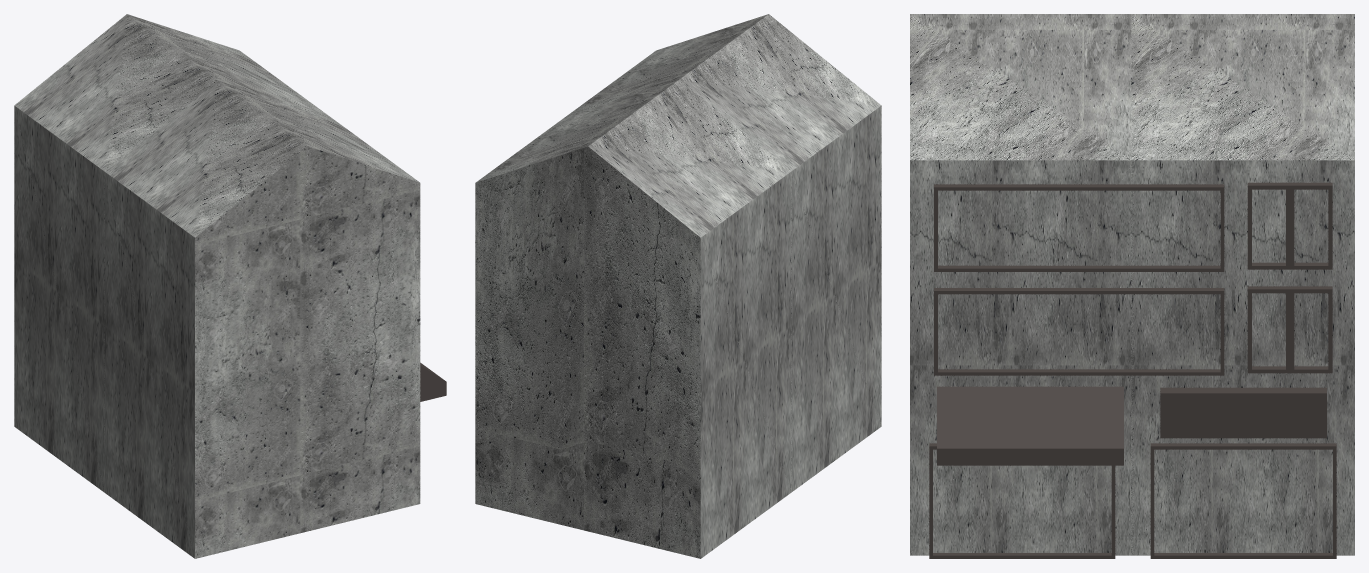
Rendered from dummyD.fbx.
3 views of the same model, side by side, from view 1: azimuth 30°, elevation 25°; view 2: azimuth 150°, elevation 25°; view 3: azimuth 270°, elevation 25° (orthographic). The views are drawn at different scales.
Parts seen in each view (by area): view 1: Cube.018; view 2: Cube.018; view 3: Cube.018.
Boxes of the visible parts, x1,y1,x2,y2 form: Cube.018: (14,14,446,558); Cube.018: (475,14,881,558); Cube.018: (910,14,1354,558).
Bounding box in the file's own units: 491 × 689 × 586.
